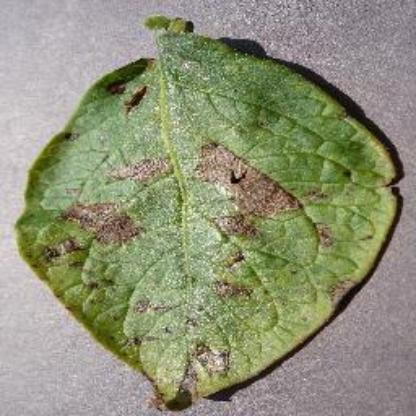Early-Blight: (15, 14, 407, 410)
